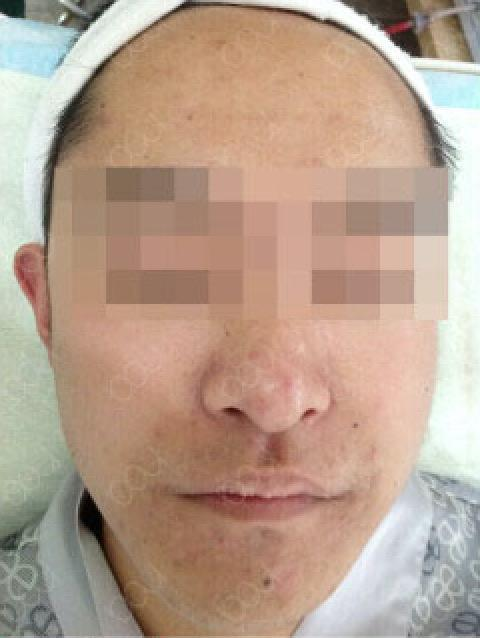fore: (282, 367, 301, 395)
